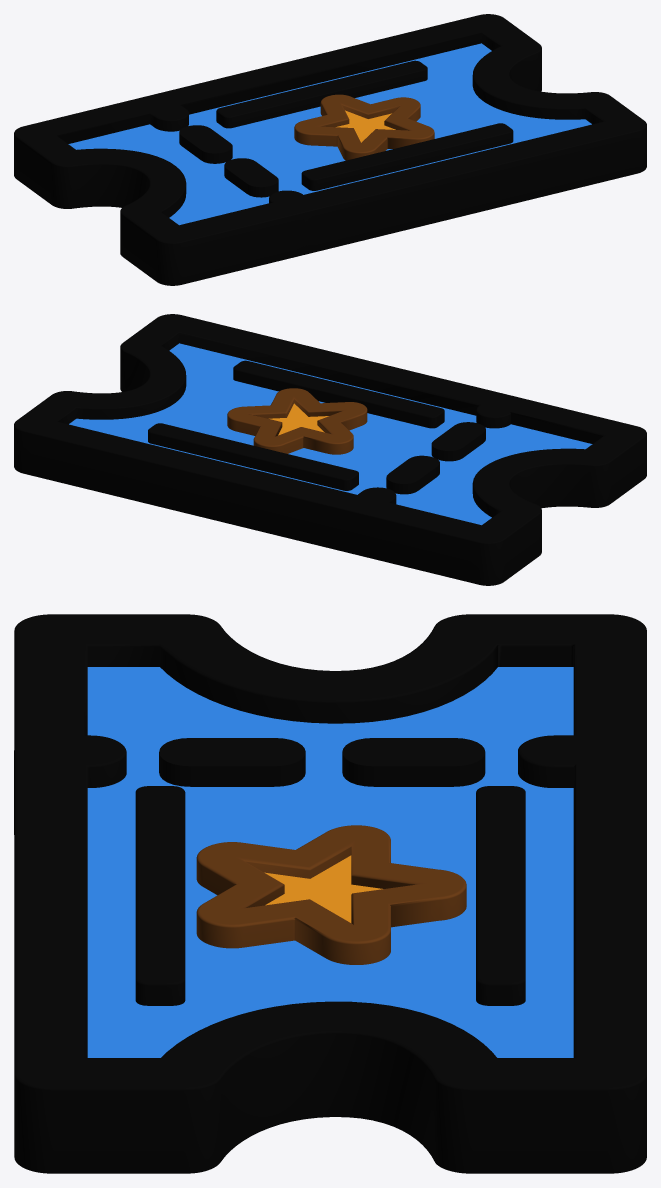
Rendered from TicketB.glb.
3 views of the same model, one above another, from view 1: azimuth 30°, elevation 25°; view 2: azimuth 150°, elevation 25°; view 3: azimuth 270°, elevation 25° (orthographic). The views are drawn at different scales.
Parts seen in each view (by area): view 1: Curve.023; view 2: Curve.023; view 3: Curve.023.
Part boxes in pixels (box(x1,y1,x2,y2)): Curve.023: box(14, 14, 646, 285); Curve.023: box(14, 314, 646, 585); Curve.023: box(14, 614, 646, 1173).
Bounding box in the file's own units: 2.45 × 0.2079 × 1.38.
1 material, 1 textured.
